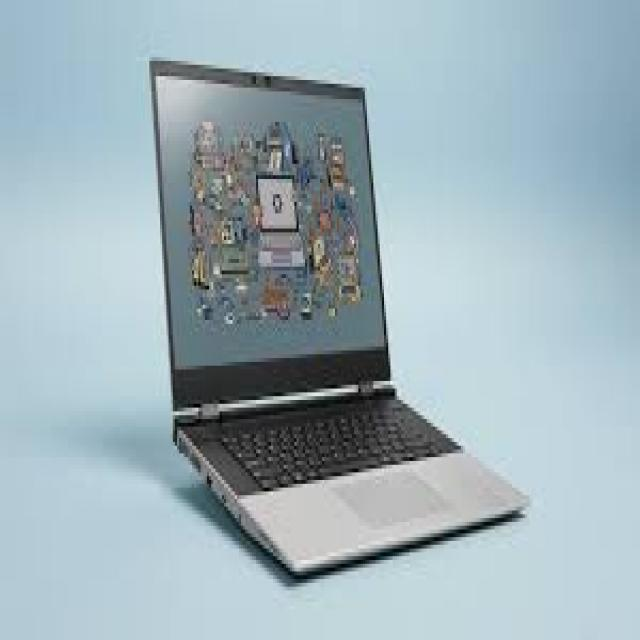others: (143, 42, 552, 579)
